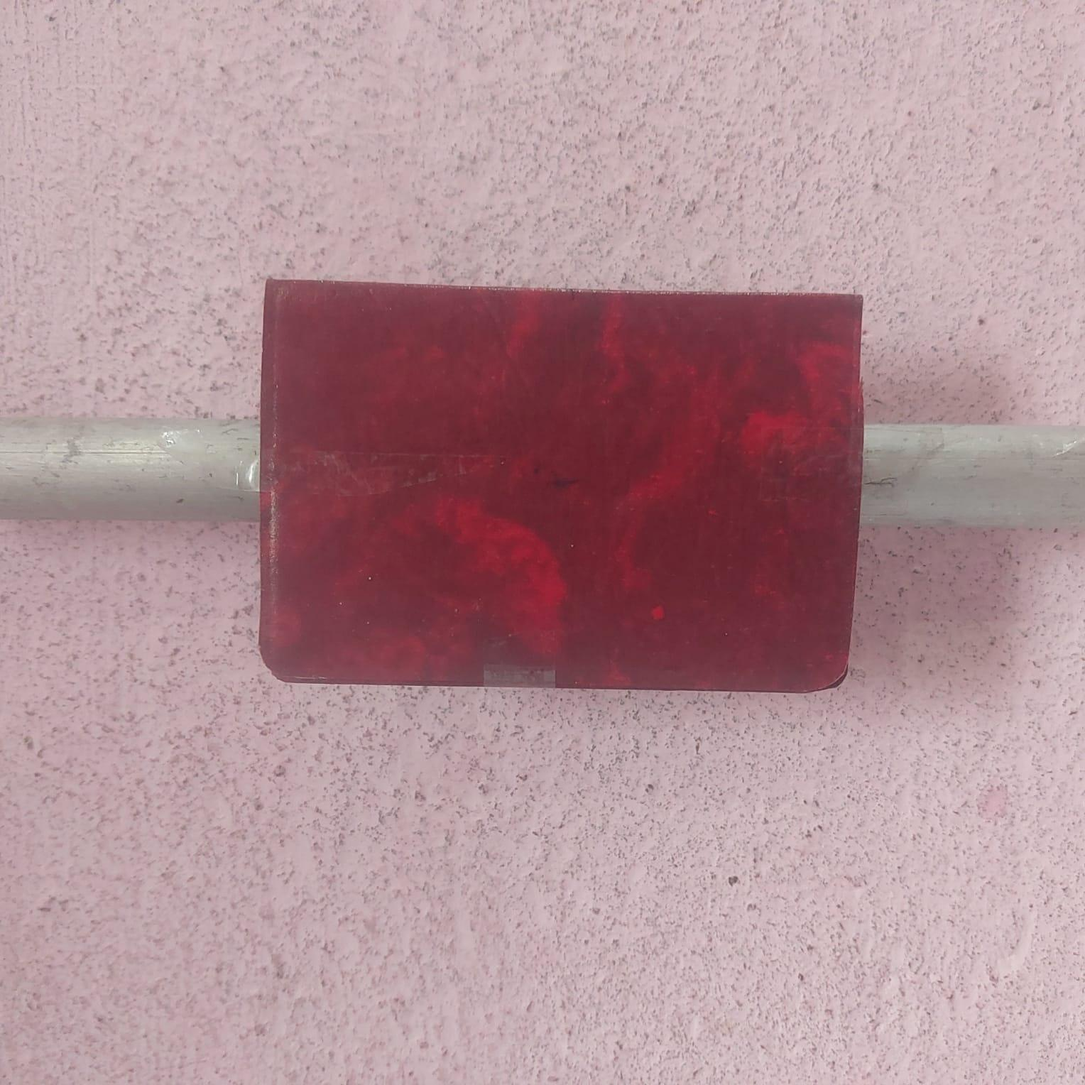wallet: (245, 272, 871, 706)
